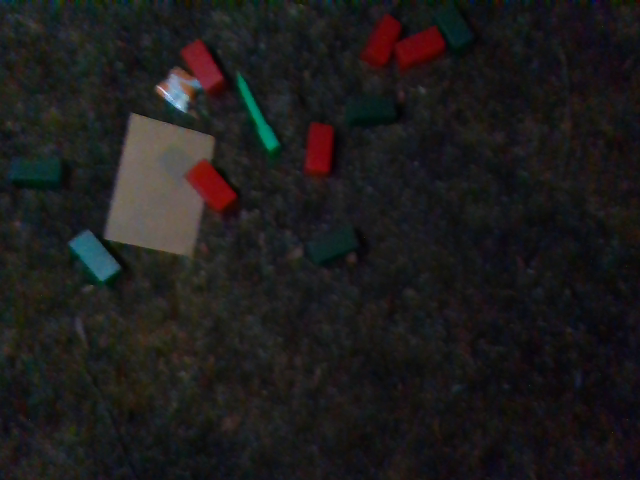Probe: (235, 65, 281, 158)
